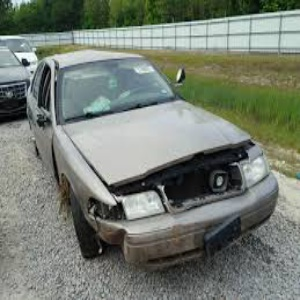bumper: (98, 214, 150, 269)
